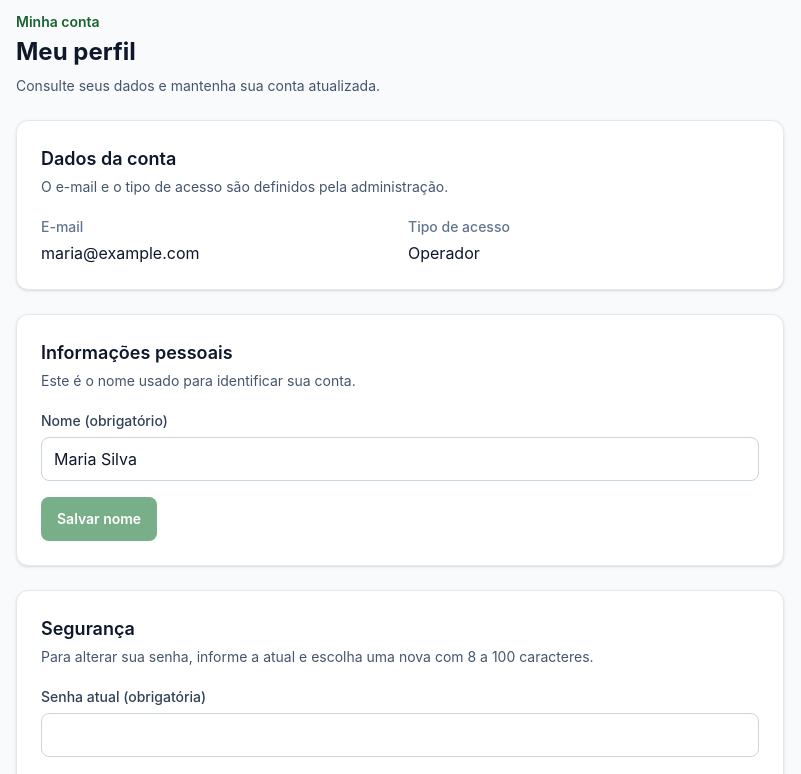
Scenario: salva apenas o nome, sem espaços nas extremidades, e atualiza a referência do formulário
Replace the text in the field showing "Maria Silva" with "  Maria Oliveira  ". click: x=400, y=459
box: 41,437 -> 759,481
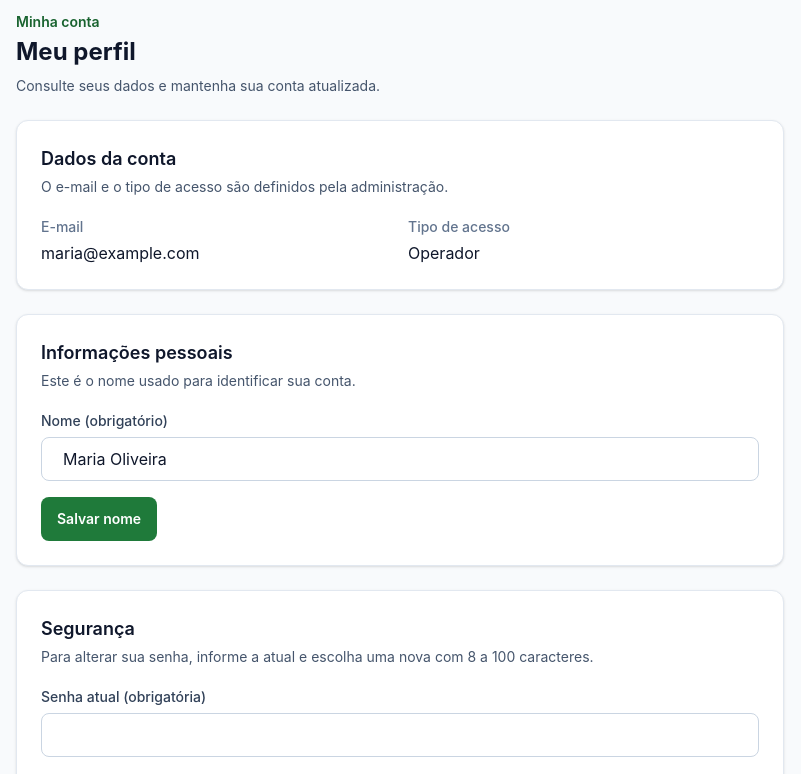
Click the button "Salvar nome". click: x=99, y=519
box: 41,497 -> 157,541
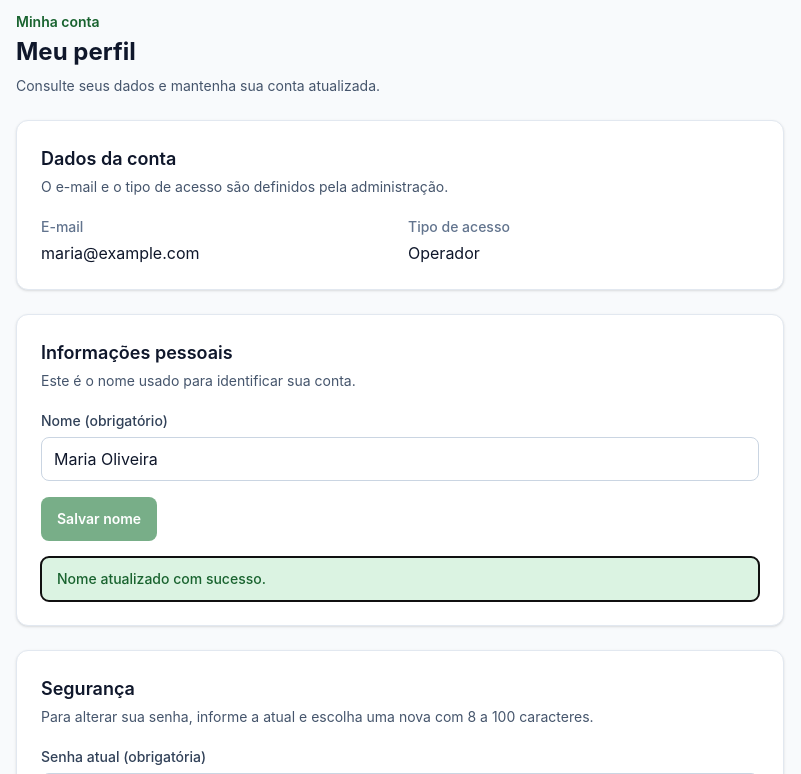
Now the text "Nome atualizado com sucesso." is shown, box 57,570 -> 266,587
